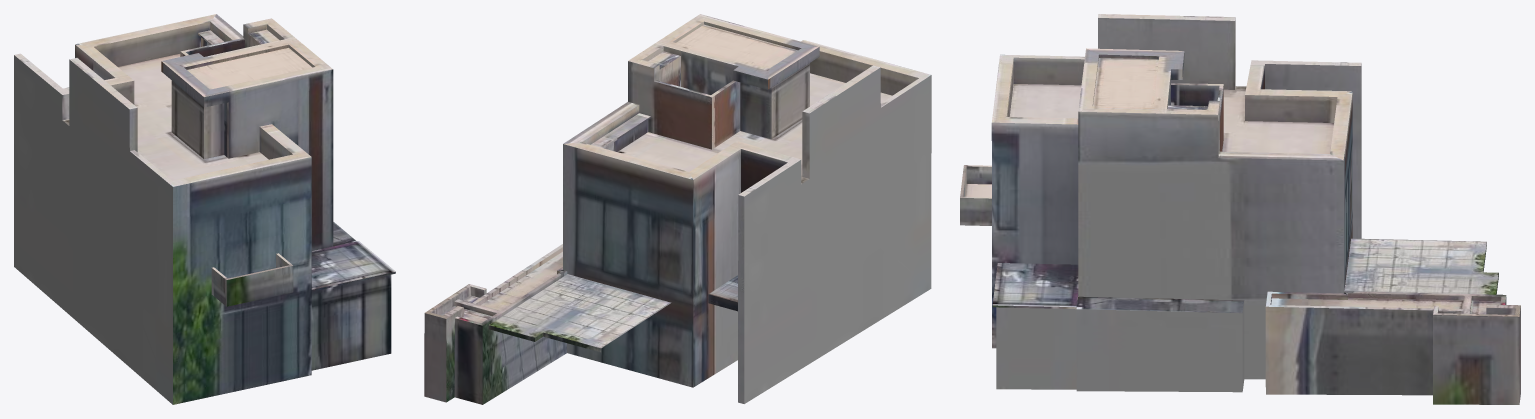
3 views of the same model, side by side, from view 1: azimuth 30°, elevation 25°; view 2: azimuth 150°, elevation 25°; view 3: azimuth 270°, elevation 25° (orthographic). The views are drawn at different scales.
Visible parts, largest first — view 1: B285114030701062A0; view 2: B285114030701062A0; view 3: B285114030701062A0.
Part boxes in pixels (box(x1,y1,x2,y2)): B285114030701062A0: box(14, 14, 395, 404); B285114030701062A0: box(424, 14, 931, 404); B285114030701062A0: box(960, 14, 1520, 404).
Size of the model in its own units: 12.16 by 11.34 by 21.49.
Materials: 1 (1 with a texture image).
